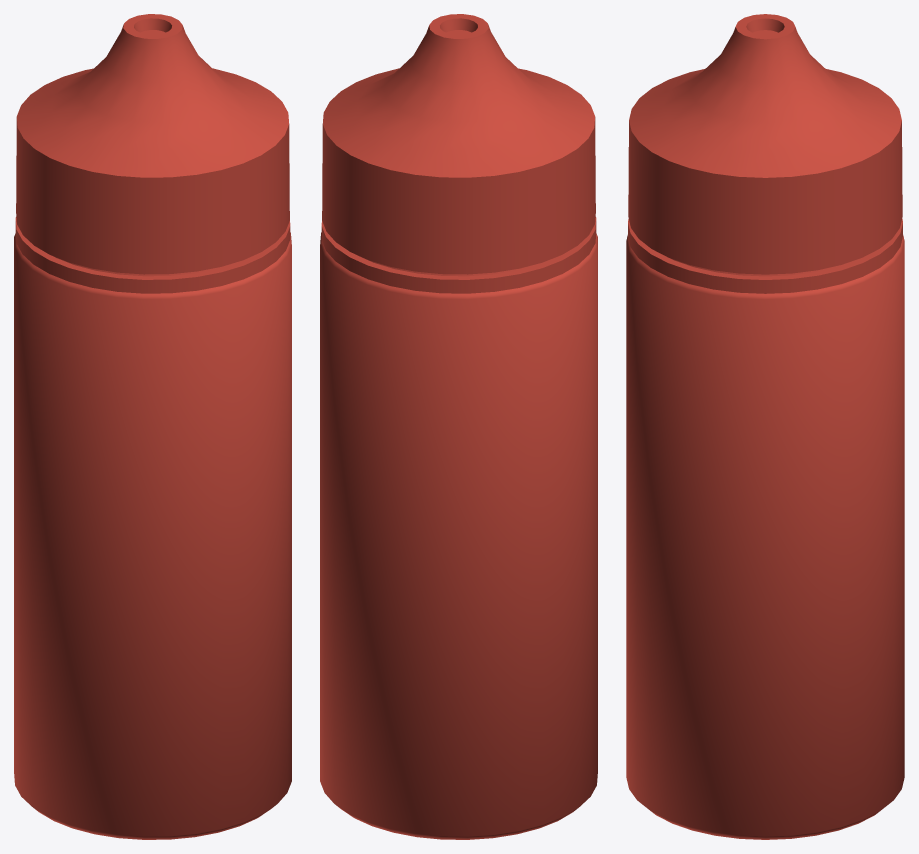
The model's file is dropper_low_poly.fbx.
3 renders of one model, left to right at view 1: azimuth 30°, elevation 25°; view 2: azimuth 150°, elevation 25°; view 3: azimuth 270°, elevation 25°, orthographic.
Parts seen in each view (by area): view 1: dropper_low_poly; view 2: dropper_low_poly; view 3: dropper_low_poly.
Boxes of the visible parts, x1,y1,x2,y2 form: dropper_low_poly: [14, 14, 291, 839]; dropper_low_poly: [320, 14, 597, 839]; dropper_low_poly: [626, 14, 904, 839].
Size of the model in its own units: 4 by 12.03 by 4.
